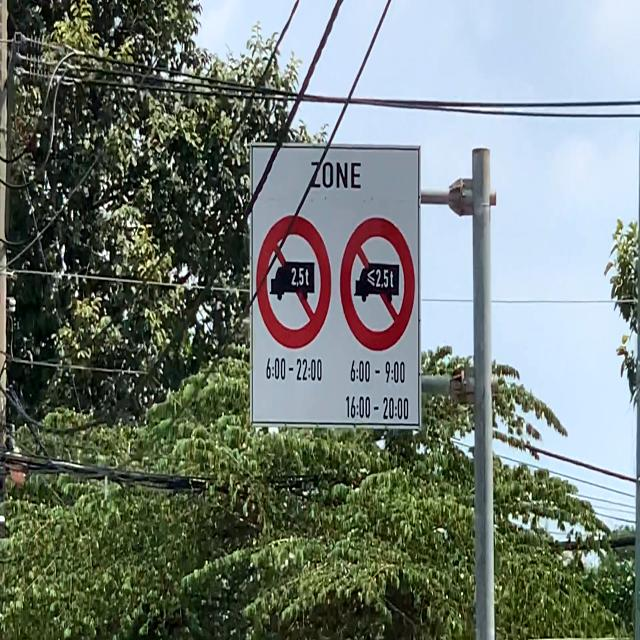P.106b: (339, 215, 416, 352), (255, 213, 332, 349)
